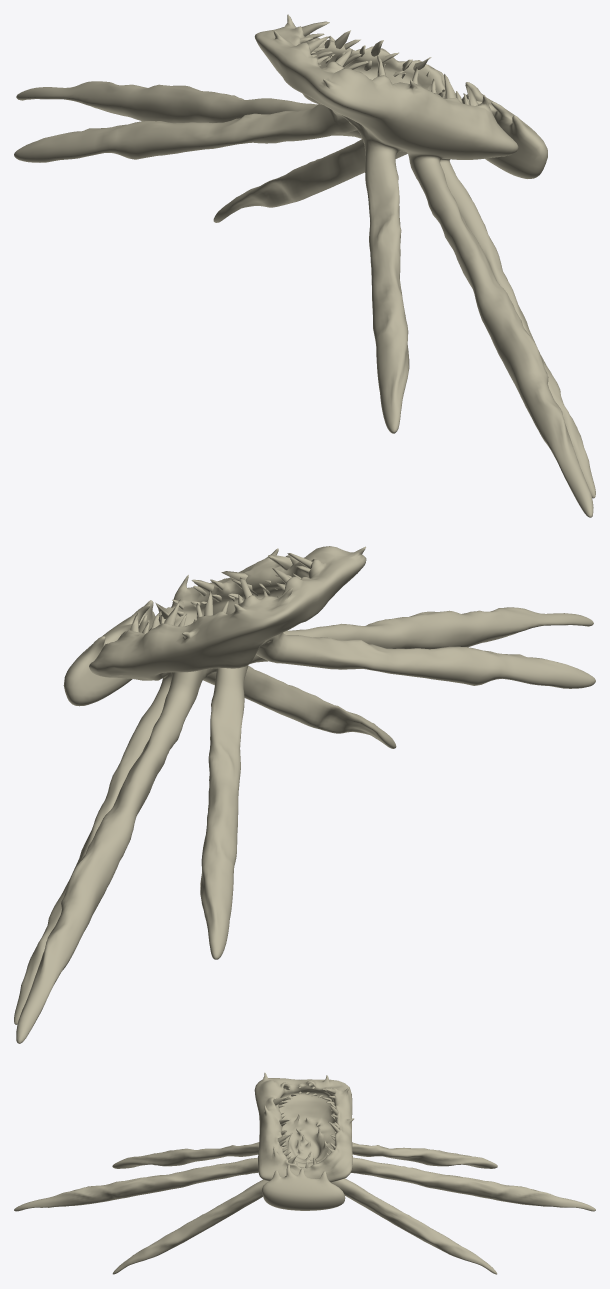
The model's file is monsterMid.fbx.
The picture shows the model from 3 angles, top to bottom: view 1: azimuth 30°, elevation 25°; view 2: azimuth 150°, elevation 25°; view 3: azimuth 270°, elevation 25°; orthographic projection. The views are drawn at different scales.
Parts seen in each view (by area): view 1: monsterMid; view 2: monsterMid; view 3: monsterMid.
Part boxes in pixels (x1,y1,x2,y2): monsterMid: [14, 14, 595, 517]; monsterMid: [14, 546, 595, 1043]; monsterMid: [14, 1072, 595, 1274].
Bounding box in the file's own units: 419 × 429 × 1311.
